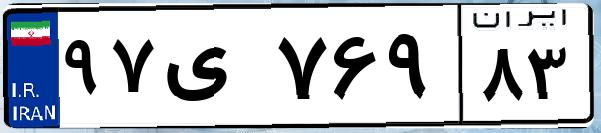3: (525, 38, 570, 115)
6: (330, 28, 385, 110)
7: (270, 28, 330, 110), (110, 28, 158, 98)
8: (475, 38, 525, 113)
9: (385, 28, 445, 110), (57, 26, 110, 100)
ی: (158, 20, 270, 120)
